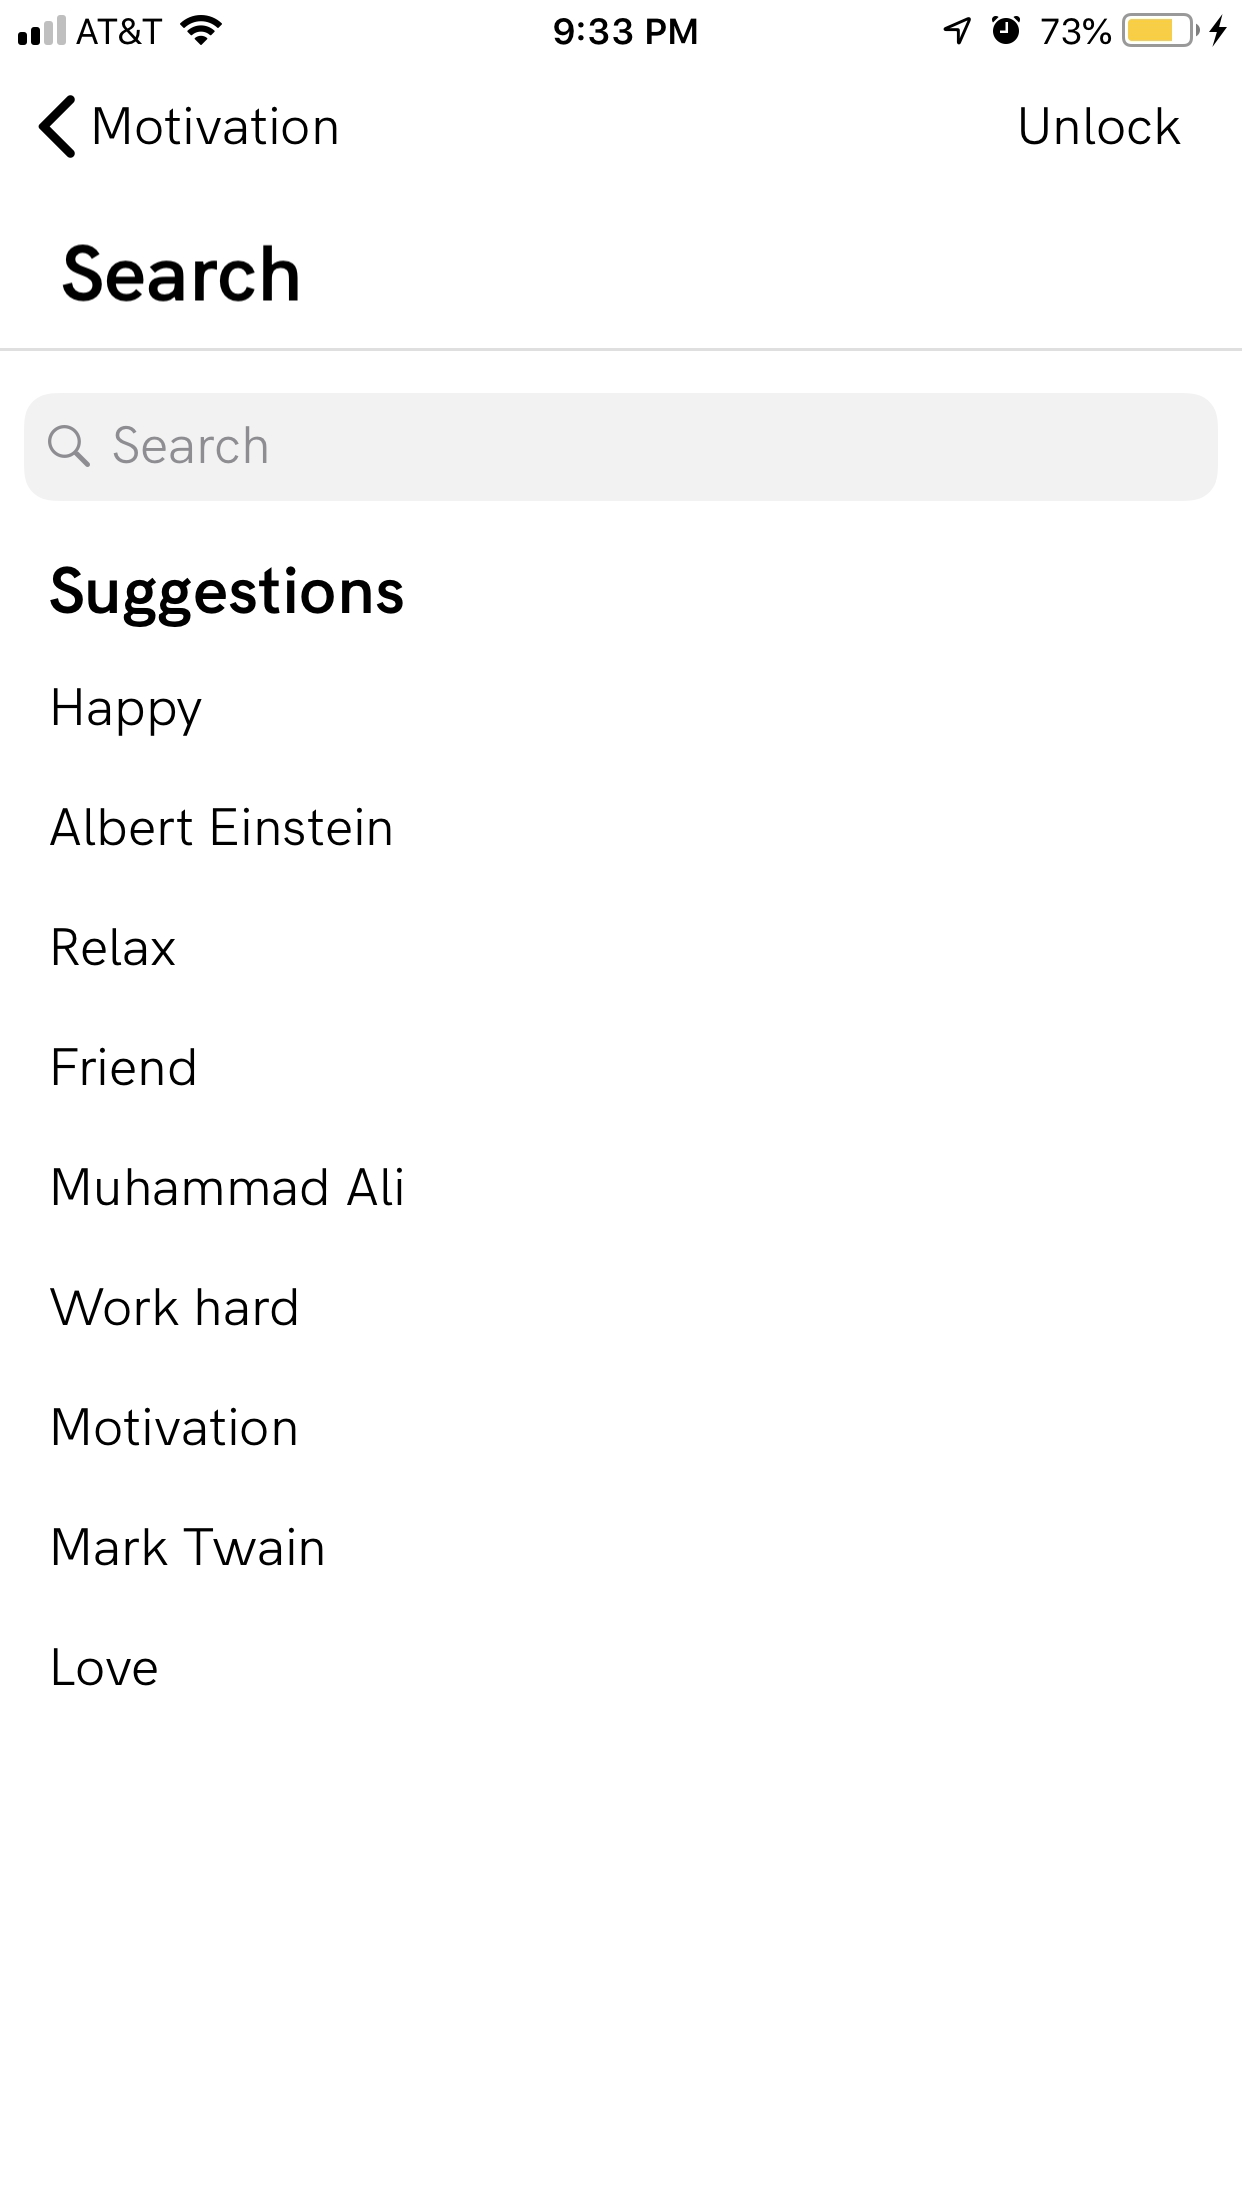EditText: (24, 393, 1219, 502)
Icon: (38, 96, 77, 161), (49, 425, 93, 469)
Text: (52, 566, 405, 629), (62, 244, 299, 303), (50, 807, 391, 848), (53, 1168, 403, 1207), (55, 1527, 325, 1567), (50, 1287, 299, 1327), (96, 106, 338, 146), (55, 1407, 297, 1447), (55, 687, 203, 737), (1011, 100, 1178, 143), (114, 426, 268, 466), (55, 1046, 196, 1087), (55, 927, 177, 968), (55, 1648, 159, 1686)
UpperTaskBar: (2, 2, 1242, 49)
